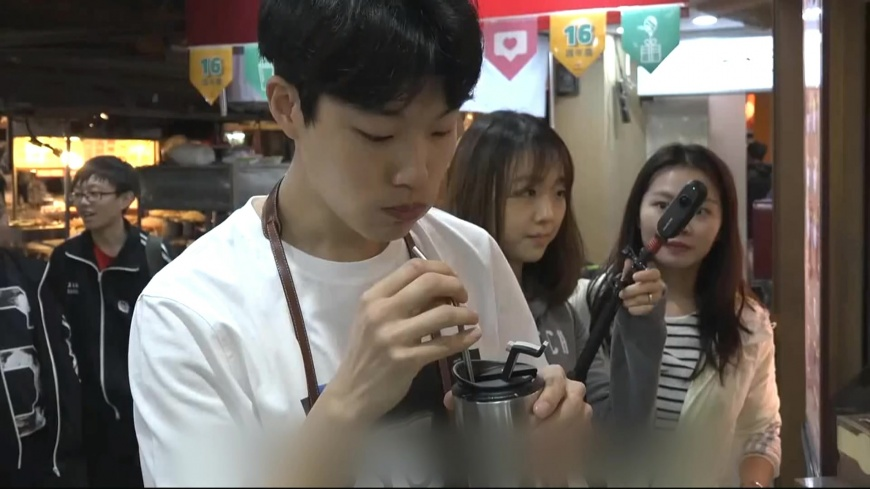people: (211, 1, 491, 489), (595, 143, 782, 489), (52, 158, 171, 489), (455, 116, 585, 368)
